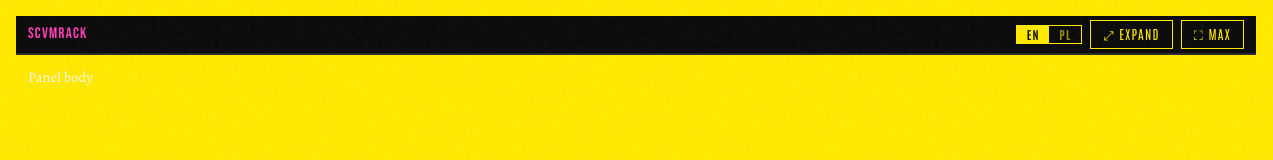
Scenario: ObrLayout › maximizes the panel to the host's available screen size, keeping the other mode selectable (RPG-66)
Click the button "⛶ Max" at (1212,34), box [1181,20,1244,49]
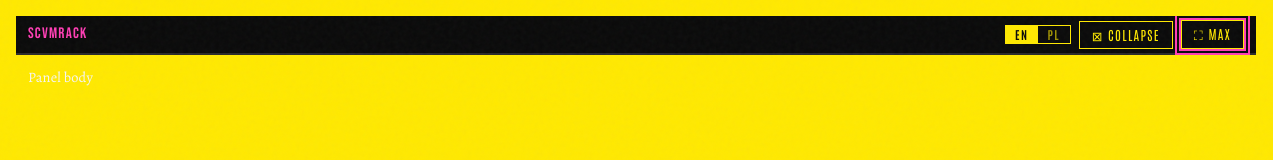
Result: the button "⊠ Collapse" is shown
Click the button "⊠ Collapse" at (1126,34), box [1079,20,1173,48]
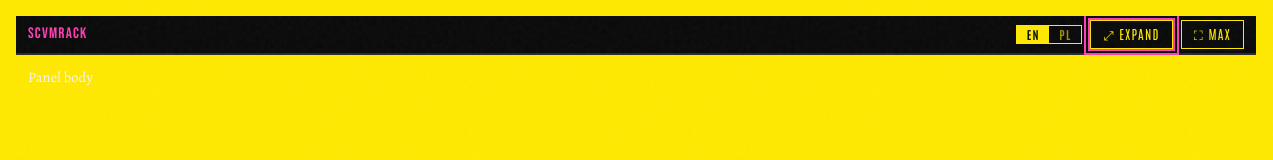
Result: the button "⤢ Expand" is shown at [1090,20,1173,49]
